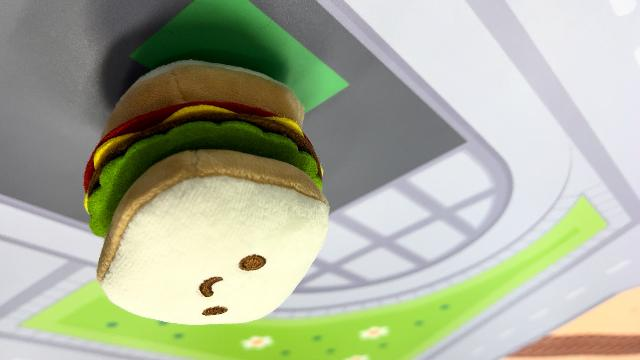sandwich: (80, 56, 332, 326)
